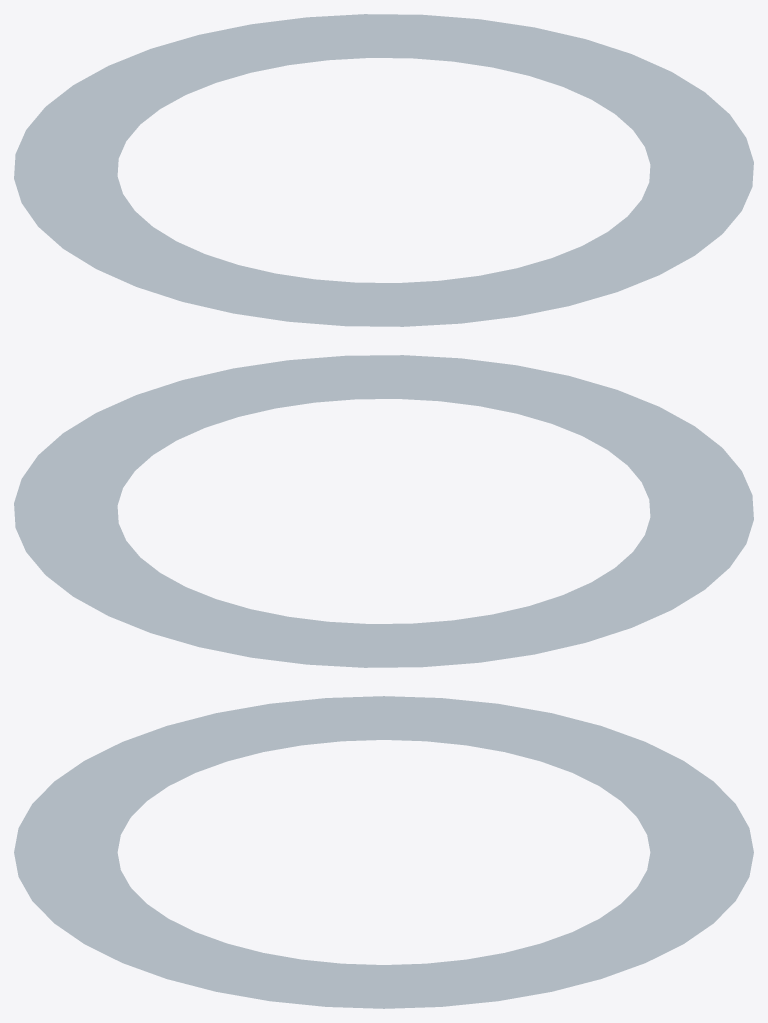
File: Ring.fbx
3 renders of one model, top to bottom at view 1: azimuth 30°, elevation 25°; view 2: azimuth 150°, elevation 25°; view 3: azimuth 270°, elevation 25°, orthographic.
Parts seen in each view (by area): view 1: Ring; view 2: Ring; view 3: Ring.
Part boxes in pixels (x1,y1,x2,y2): Ring: [14, 14, 753, 326]; Ring: [14, 355, 753, 667]; Ring: [14, 696, 753, 1008].
Size of the model in its own units: 2 by 8.74e-08 by 2.
